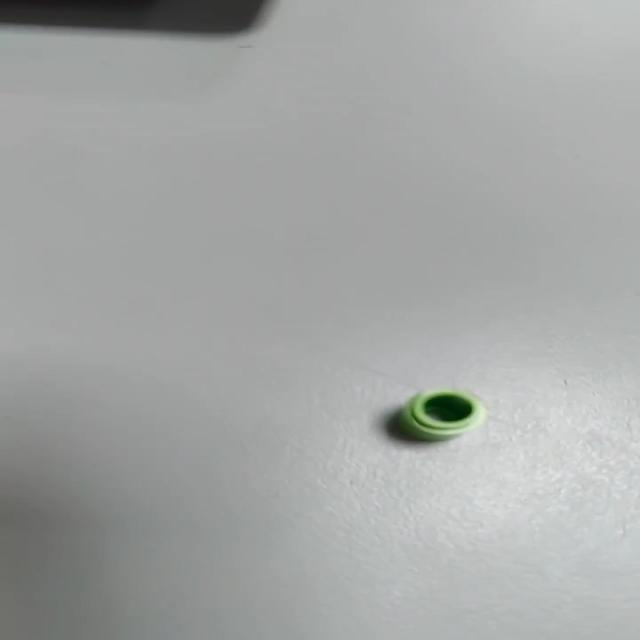S1x1x1: (394, 387, 491, 443)
